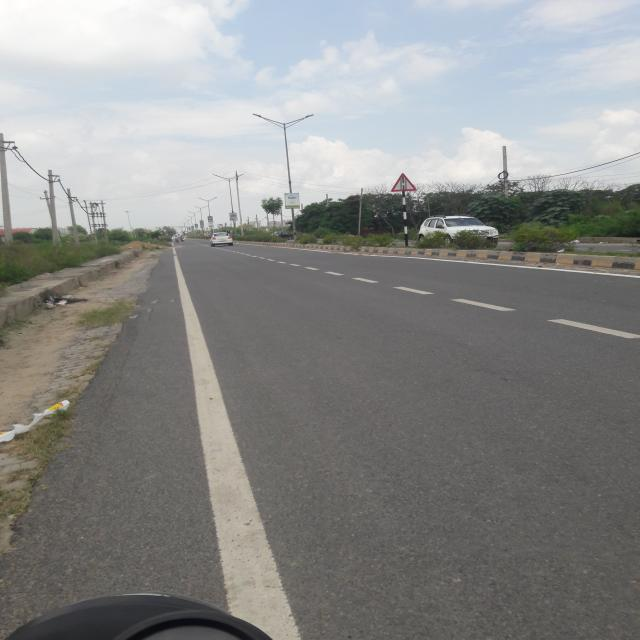GAP_IN_MEDIAN: (391, 173, 417, 192)
